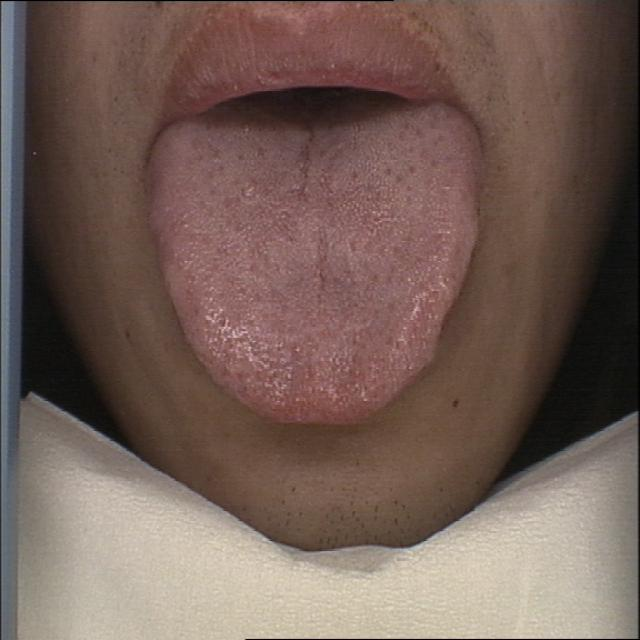tongue: (140, 98, 492, 434)
